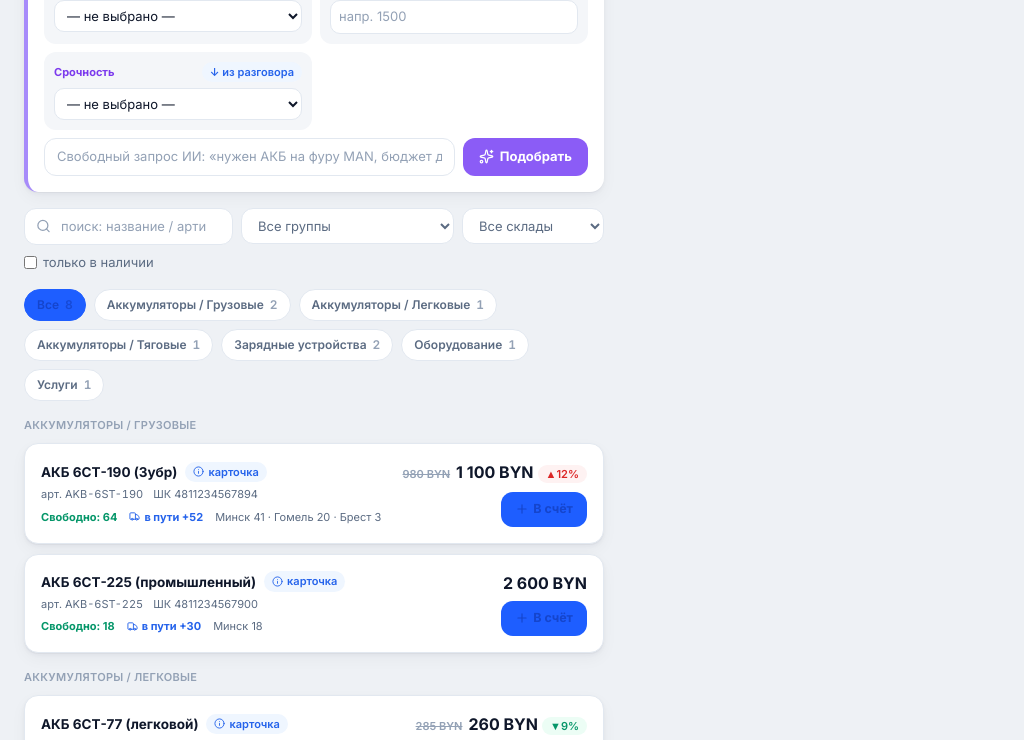
it: CatalogPicker › фильтр по группе-чипу оставляет только товары группы
(page scrolled)
Check: the text "АКБ 6СТ-77 (легковой)" is shown, box left=41, top=714, right=198, bottom=734
Step 1. Click the button "Услуги 1" → (64, 384), box left=24, top=368, right=104, bottom=400
(page scrolled)
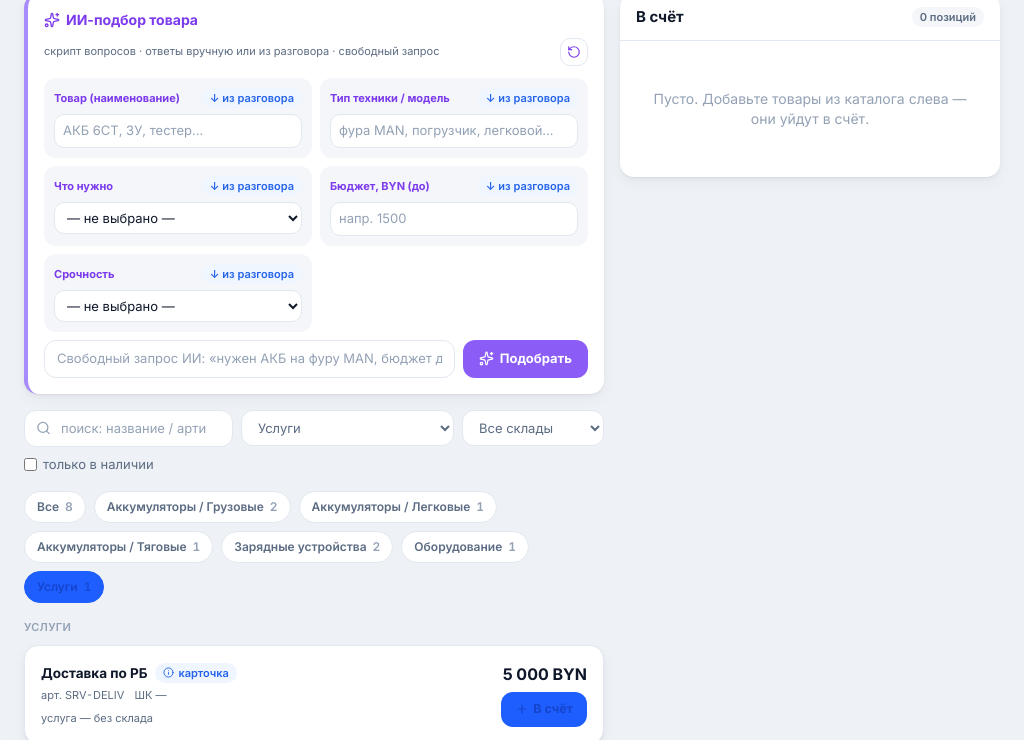
Check: the text "Доставка по РБ" is shown, box left=41, top=663, right=147, bottom=683
Check: the text "АКБ 6СТ-77 (легковой)" is gone
